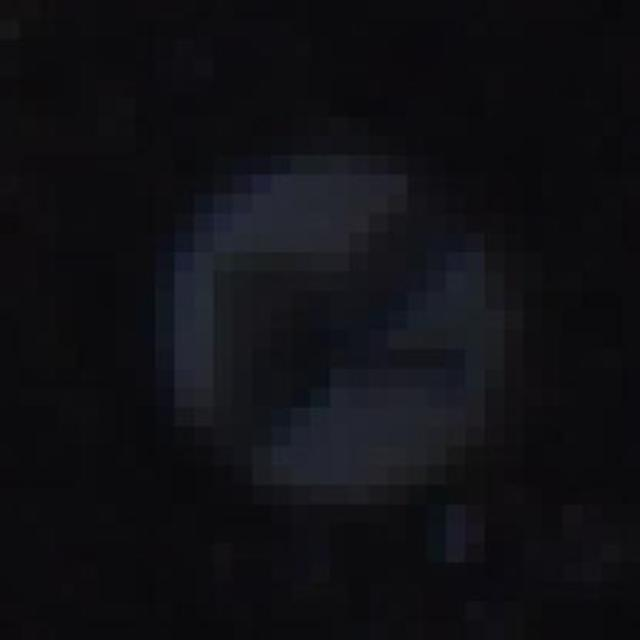Overtaking by trucks is prohibited: (135, 78, 543, 562)
